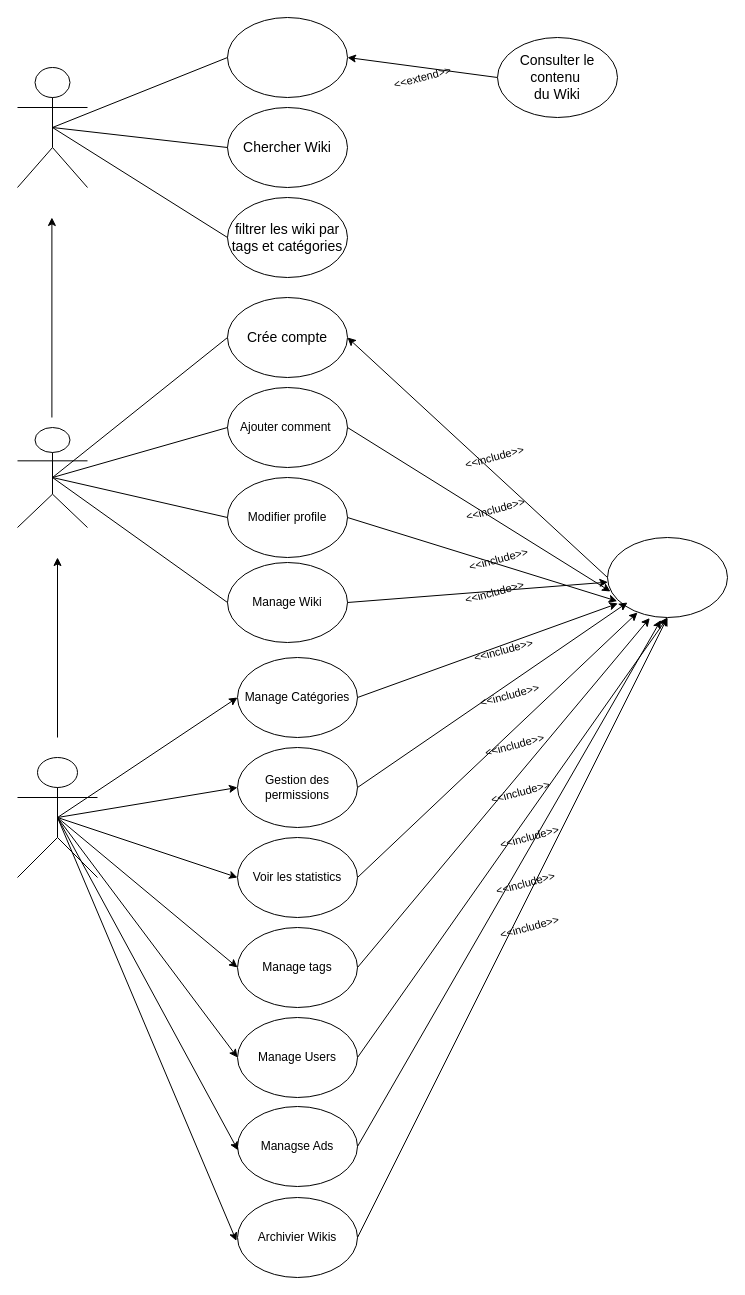
This 745x1295 diagram has some shape labels left out. Here are the shapes that lost their labels. From the top down, the box of each, then its label:
(226, 16, 348, 98): Consulter les Wikis
(16, 66, 88, 188): visitor
(16, 426, 88, 528): Auteur
(606, 536, 728, 618): Authentification
(16, 756, 98, 878): admin
